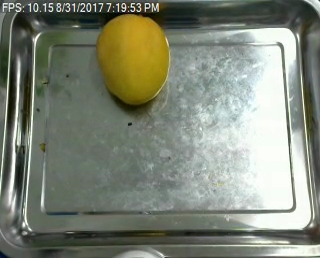Mango: (95, 12, 174, 103)
